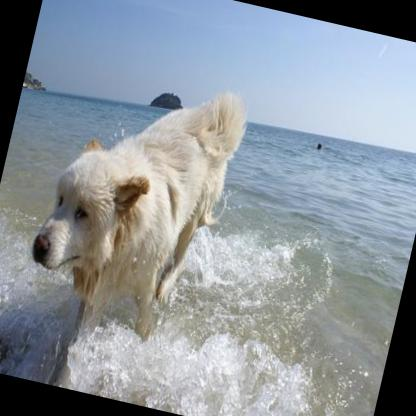Samoyed: (15, 51, 254, 357)
